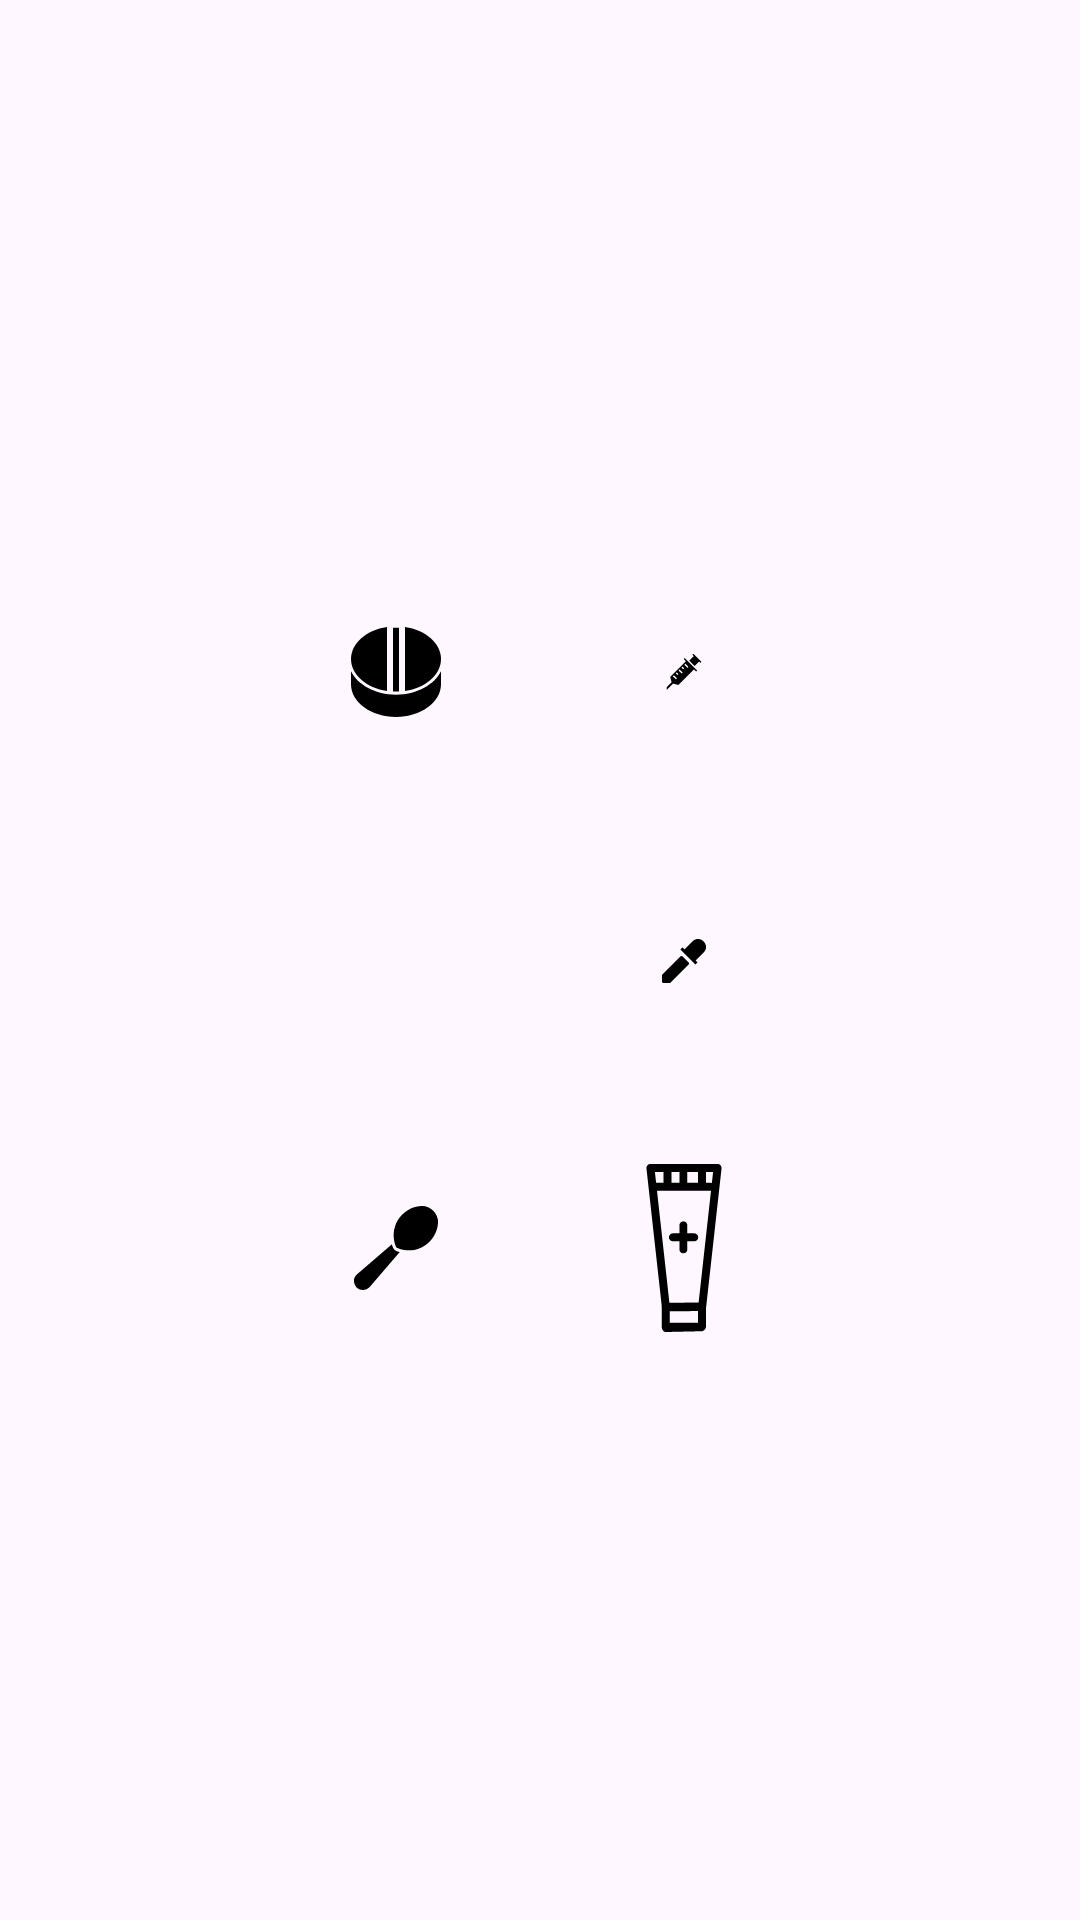

Point at icon controls on the screen. Image size 1080×1920, points as (x,y).
Cucharada: (396,1248)
Gel: (684,1248)
Gotas: (684,961)
Inyección: (684,672)
Píldora: (396,672)
